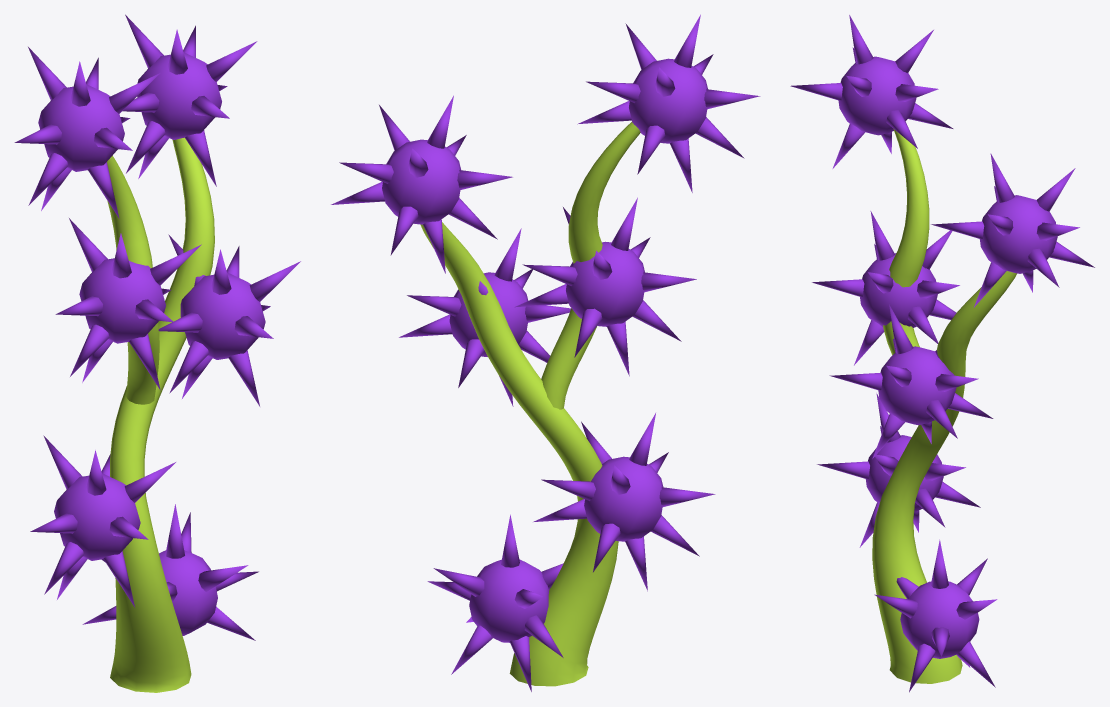
The model's file is flower_spiky.fbx.
3 renders of one model, left to right at view 1: azimuth 30°, elevation 25°; view 2: azimuth 150°, elevation 25°; view 3: azimuth 270°, elevation 25°, orthographic. The views are drawn at different scales.
Parts seen in each view (by area): view 1: flowerSpiky; view 2: flowerSpiky; view 3: flowerSpiky.
Part boxes in pixels (box(x1,y1,x2,y2)): flowerSpiky: box(14, 14, 300, 692); flowerSpiky: box(331, 14, 760, 691); flowerSpiky: box(790, 15, 1094, 692).
Size of the model in its own units: 2.15 by 4.23 by 1.93.
